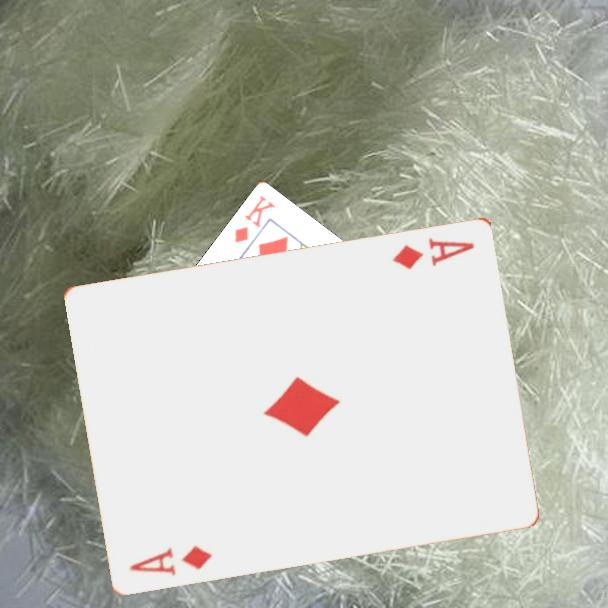d01: (389, 234, 478, 272), (126, 541, 216, 578)
d13: (231, 192, 279, 247)
